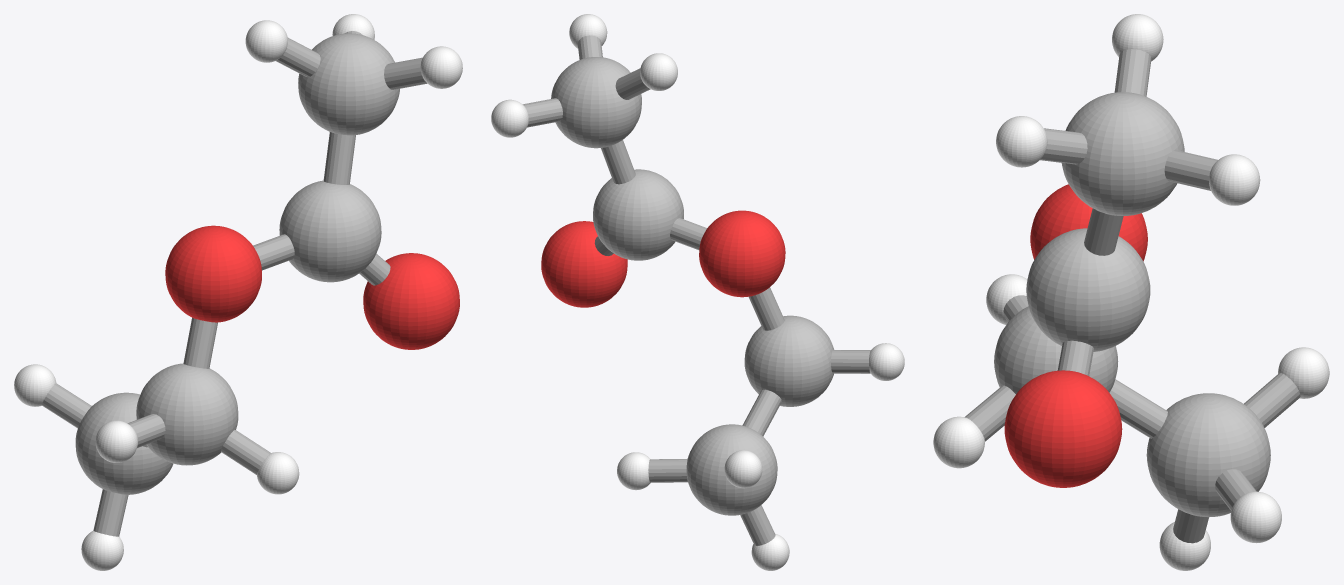
File: asset.glb
The picture shows the model from 3 angles, left to right: view 1: azimuth 30°, elevation 25°; view 2: azimuth 150°, elevation 25°; view 3: azimuth 270°, elevation 25°; orthographic projection. The views are drawn at different scales.
Parts seen in each view (by area): view 1: Stick_Cylinder.012_Cylinder.012, Carbon_ball_Sphere.001, Carbon_ball_Sphere.002, Carbon_ball_Sphere.000, Oxygen_ball_Sphere.001, Oxygen_ball_Sphere.001.000, Carbon_ball_Sphere, Hydrogen_ball_Sphere.002.006, Hydrogen_ball_Sphere.002.003, Hydrogen_ball_Sphere.002.004, Hydrogen_ball_Sphere.002.002, Hydrogen_ball_Sphere.002 (+2 smaller); view 2: Stick_Cylinder.012_Cylinder.012, Carbon_ball_Sphere.001, Carbon_ball_Sphere.000, Oxygen_ball_Sphere.001, Carbon_ball_Sphere.002, Carbon_ball_Sphere, Oxygen_ball_Sphere.001.000, Hydrogen_ball_Sphere.002.001, Hydrogen_ball_Sphere.002.004, Hydrogen_ball_Sphere.002.005, Hydrogen_ball_Sphere.002.003, Hydrogen_ball_Sphere.002.000 (+2 smaller); view 3: Stick_Cylinder.012_Cylinder.012, Carbon_ball_Sphere.001, Oxygen_ball_Sphere.001.000, Carbon_ball_Sphere.002, Carbon_ball_Sphere, Carbon_ball_Sphere.000, Oxygen_ball_Sphere.001, Hydrogen_ball_Sphere.002.006, Hydrogen_ball_Sphere.002.000, Hydrogen_ball_Sphere.002.005, Hydrogen_ball_Sphere.002.002, Hydrogen_ball_Sphere.002.001 (+3 smaller).
Part boxes in pixels (x1,y1,x2,y2): Stick_Cylinder.012_Cylinder.012: (42,31,427,536); Carbon_ball_Sphere.001: (279,180,381,282); Carbon_ball_Sphere.002: (298,33,399,135); Carbon_ball_Sphere.000: (136,363,238,465); Oxygen_ball_Sphere.001: (165,225,261,322); Oxygen_ball_Sphere.001.000: (363,253,459,349); Carbon_ball_Sphere: (75,392,173,494); Hydrogen_ball_Sphere.002.006: (420,46,462,88); Hydrogen_ball_Sphere.002.003: (95,420,137,462); Hydrogen_ball_Sphere.002.004: (245,20,287,62); Hydrogen_ball_Sphere.002.002: (257,452,299,494); Hydrogen_ball_Sphere.002: (81,530,123,570); Stick_Cylinder.012_Cylinder.012: (523,35,870,545); Carbon_ball_Sphere.001: (593,169,683,260); Carbon_ball_Sphere.000: (744,315,834,406); Oxygen_ball_Sphere.001: (699,210,785,297); Carbon_ball_Sphere.002: (551,57,641,148); Carbon_ball_Sphere: (686,424,777,515); Oxygen_ball_Sphere.001.000: (541,221,627,307); Hydrogen_ball_Sphere.002.001: (724,450,762,488); Hydrogen_ball_Sphere.002.004: (640,53,677,90); Hydrogen_ball_Sphere.002.005: (491,99,528,137); Hydrogen_ball_Sphere.002.003: (869,343,904,380); Hydrogen_ball_Sphere.002.000: (617,452,650,490); Stick_Cylinder.012_Cylinder.012: (964,49,1300,543); Carbon_ball_Sphere.001: (1026,228,1150,351); Oxygen_ball_Sphere.001.000: (1004,370,1122,487); Carbon_ball_Sphere.002: (1061,92,1184,215); Carbon_ball_Sphere: (1146,393,1270,517); Carbon_ball_Sphere.000: (994,306,1118,393); Oxygen_ball_Sphere.001: (1030,184,1147,261); Hydrogen_ball_Sphere.002.006: (996,116,1047,167); Hydrogen_ball_Sphere.002.000: (1230,491,1281,543); Hydrogen_ball_Sphere.002.005: (1209,154,1260,205); Hydrogen_ball_Sphere.002.002: (933,416,984,468); Hydrogen_ball_Sphere.002.001: (1278,347,1329,398).
Size of the model in its own units: 6.54 by 8.73 by 4.92.
